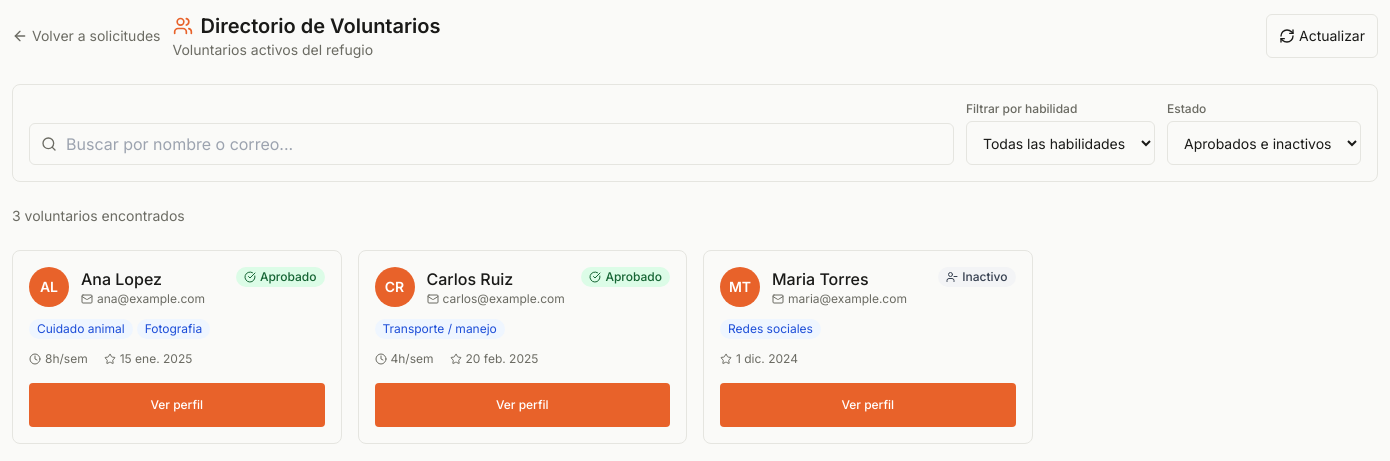
Test: VolunteerDirectoryPage › filters by approved status only
This screenshot has width=1390, height=461.
Check: the text "Maria Torres" is shown, box [772,269,868,289]
Select "Solo aprobados" in the dropdown named "Estado" at x=1264, y=143, box [1167,121,1361,165]
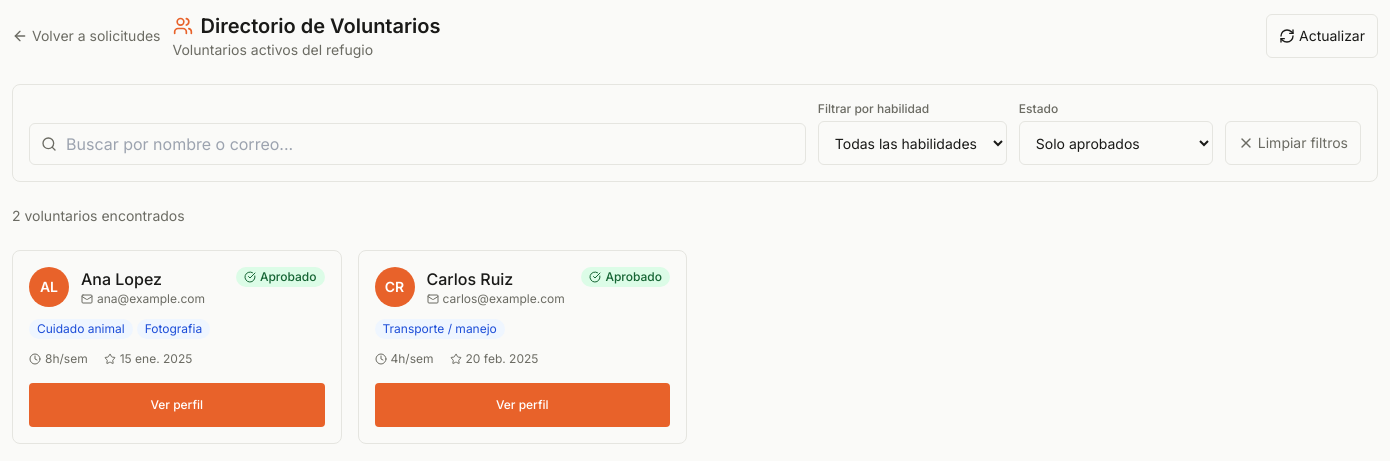
Check: the text "Ana Lopez" is shown, box [81,269,162,289]
Check: the text "Maria Torres" is gone
